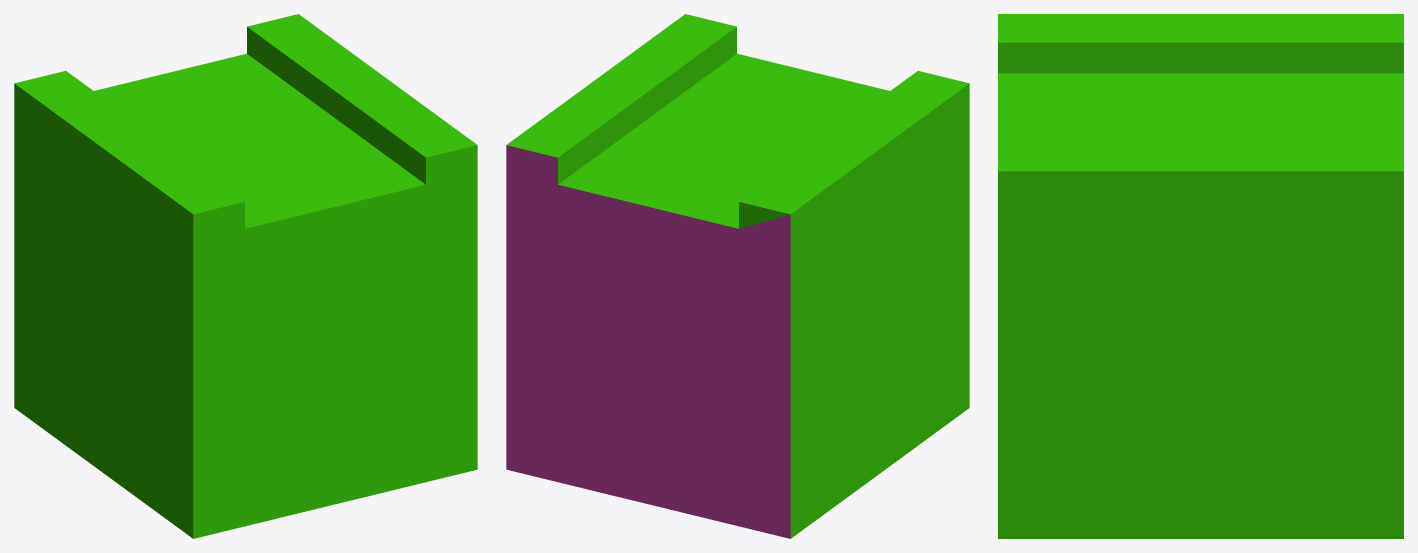
File: grossbox.fbx
3 renders of one model, left to right at view 1: azimuth 30°, elevation 25°; view 2: azimuth 150°, elevation 25°; view 3: azimuth 270°, elevation 25°, orthographic. The views are drawn at different scales.
Visible parts, largest first — view 1: punanenlaatikko; view 2: punanenlaatikko; view 3: punanenlaatikko.
Part boxes in pixels (x1=…): punanenlaatikko: x1=14, y1=14, x2=477, y2=538; punanenlaatikko: x1=506, y1=14, x2=969, y2=538; punanenlaatikko: x1=998, y1=14, x2=1403, y2=538.
Size of the model in its own units: 110 by 120 by 120.
